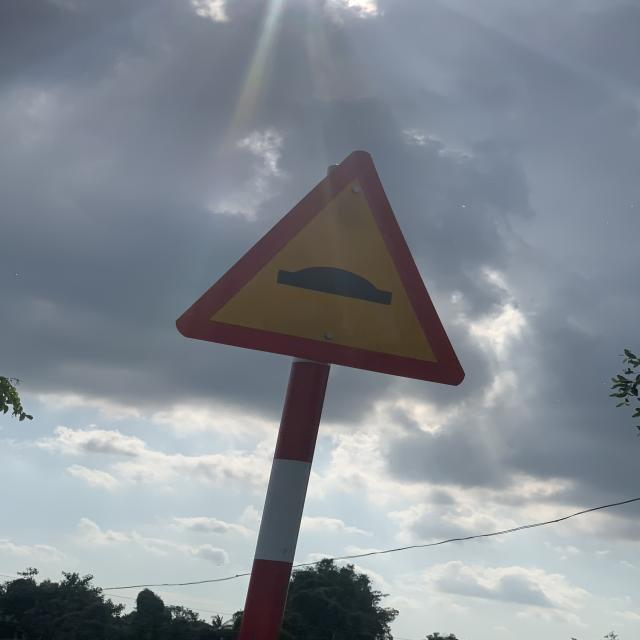Duong_Cong_Ben_Phai: (173, 148, 466, 385)
